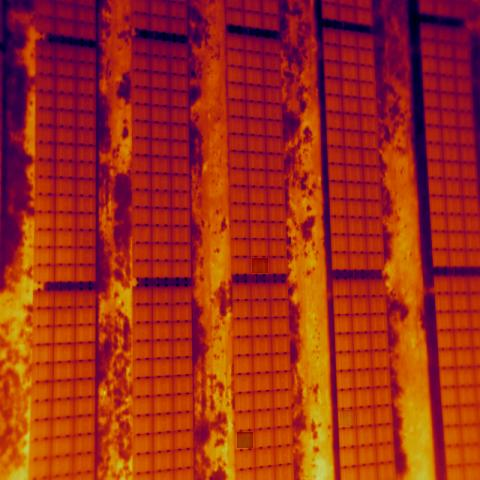fault: (237, 432, 253, 448), (252, 258, 268, 273), (340, 410, 355, 426)
